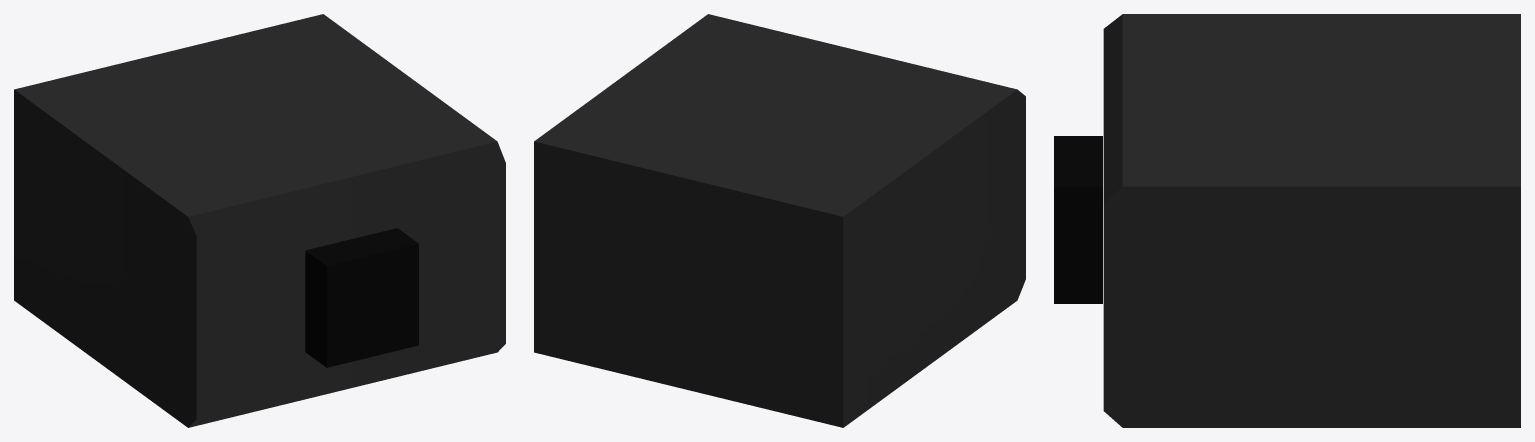
The model's file is M249MagAttach.fbx.
3 views of the same model, side by side, from view 1: azimuth 30°, elevation 25°; view 2: azimuth 150°, elevation 25°; view 3: azimuth 270°, elevation 25° (orthographic). The views are drawn at different scales.
Parts seen in each view (by area): view 1: node_9dd0f6f6_31ed_4a20_9721_c0e673ea2e27_mesh0; view 2: node_9dd0f6f6_31ed_4a20_9721_c0e673ea2e27_mesh0; view 3: node_9dd0f6f6_31ed_4a20_9721_c0e673ea2e27_mesh0.
Boxes of the visible parts, box(x1,y1,x2,y2) form: node_9dd0f6f6_31ed_4a20_9721_c0e673ea2e27_mesh0: box(14, 14, 505, 427); node_9dd0f6f6_31ed_4a20_9721_c0e673ea2e27_mesh0: box(534, 14, 1025, 427); node_9dd0f6f6_31ed_4a20_9721_c0e673ea2e27_mesh0: box(1054, 14, 1520, 427).
Bounding box in the file's own units: 0.0719 × 0.0469 × 0.0822.
